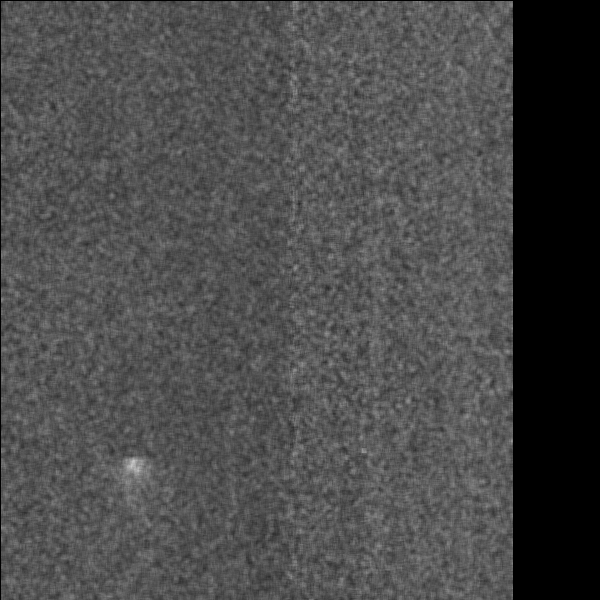spark: (69, 482, 129, 568), (150, 513, 185, 575), (228, 509, 265, 558), (418, 119, 488, 144), (155, 424, 180, 478), (414, 478, 460, 501), (414, 62, 463, 78), (250, 230, 276, 257), (371, 390, 393, 409)
